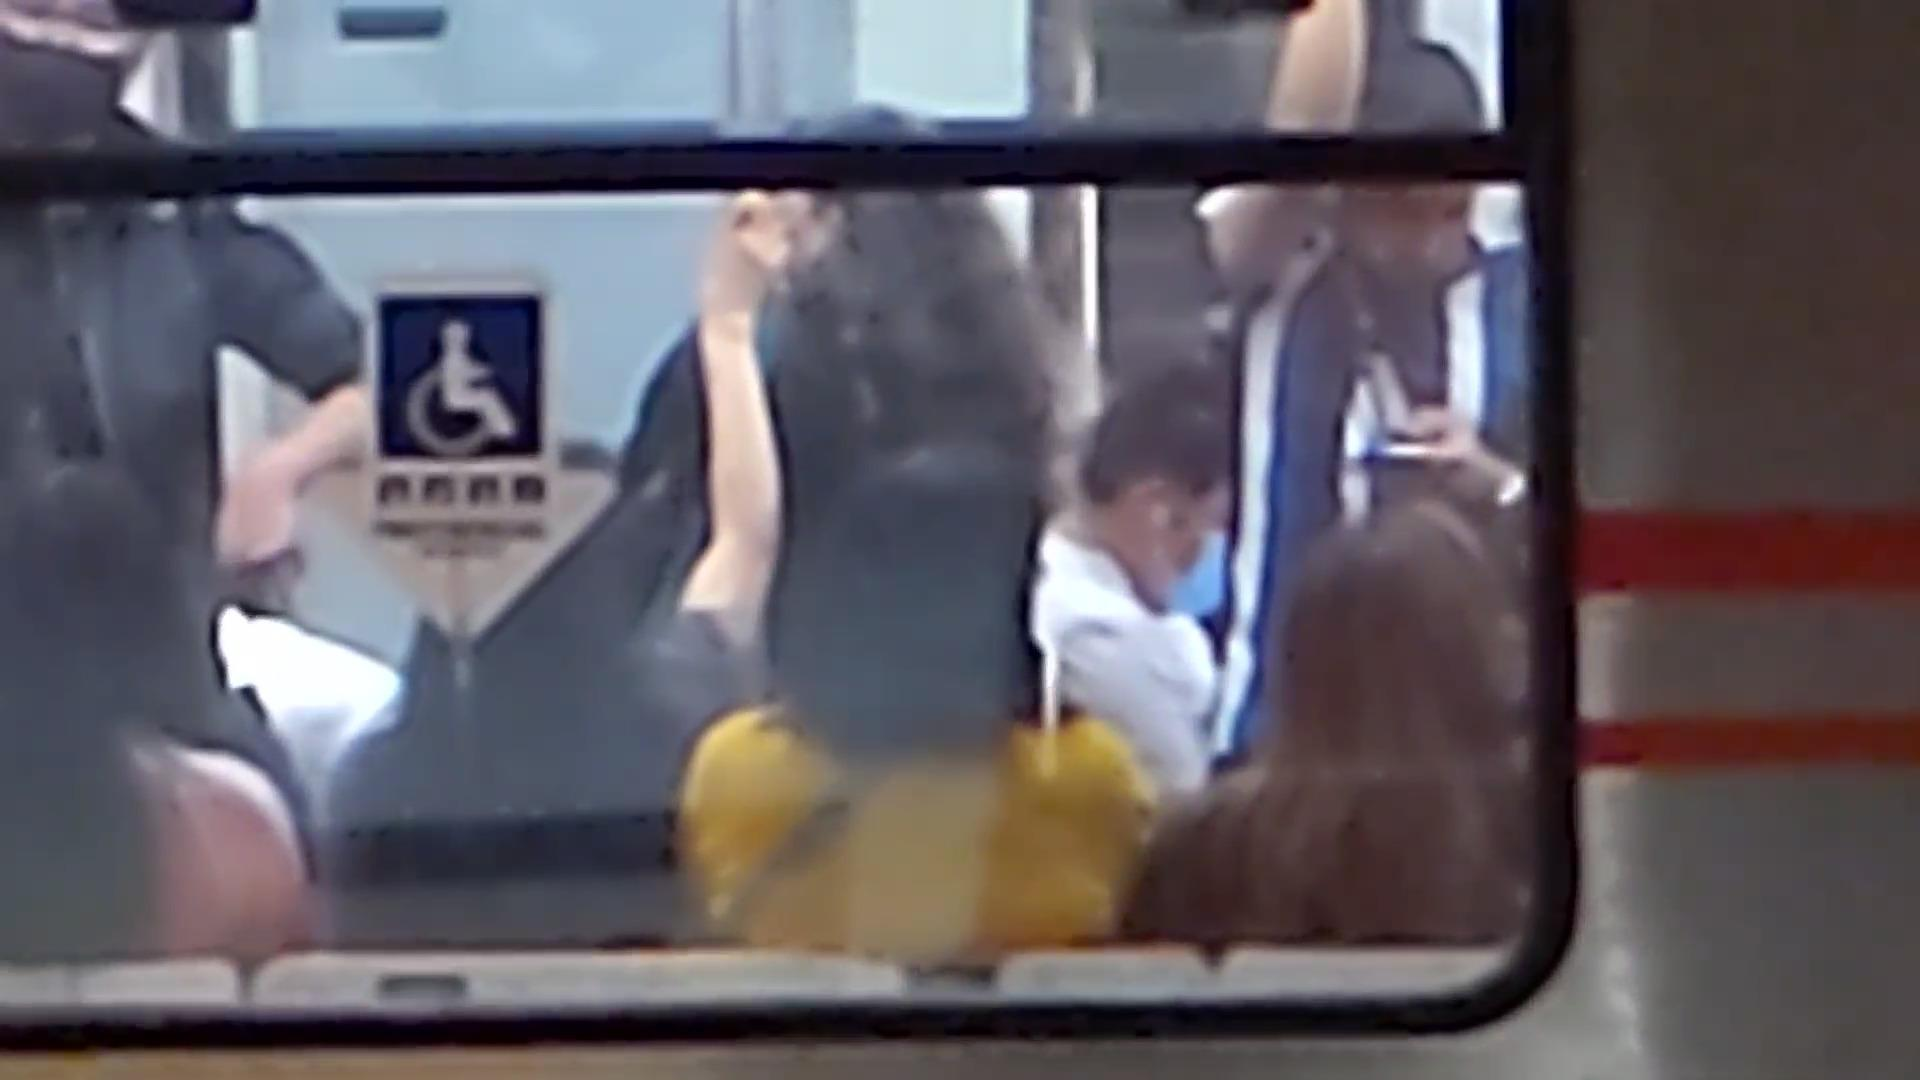handicapped symbol: (397, 310, 517, 459)
